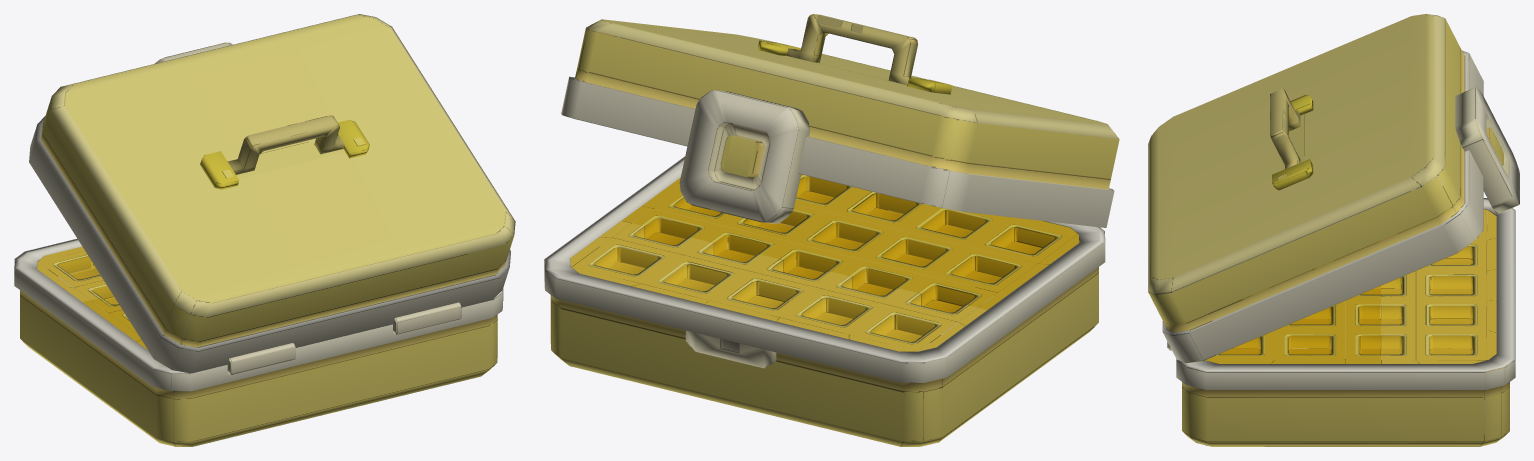
Rendered from G_pokemonbox.fbx.
3 renders of one model, left to right at view 1: azimuth 30°, elevation 25°; view 2: azimuth 150°, elevation 25°; view 3: azimuth 270°, elevation 25°, orthographic. The views are drawn at different scales.
Parts seen in each view (by area): view 1: G_pokemonbox; view 2: G_pokemonbox; view 3: G_pokemonbox.
Boxes of the visible parts, bbox=[...] form: G_pokemonbox: bbox=[14, 14, 515, 446]; G_pokemonbox: bbox=[544, 14, 1119, 446]; G_pokemonbox: bbox=[1148, 14, 1519, 446].
Size of the model in its own units: 8.73 by 6.5 by 7.89.
1 material, 1 textured.
